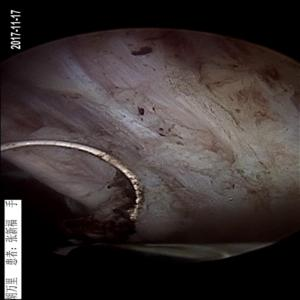film: (49, 42, 281, 221)
